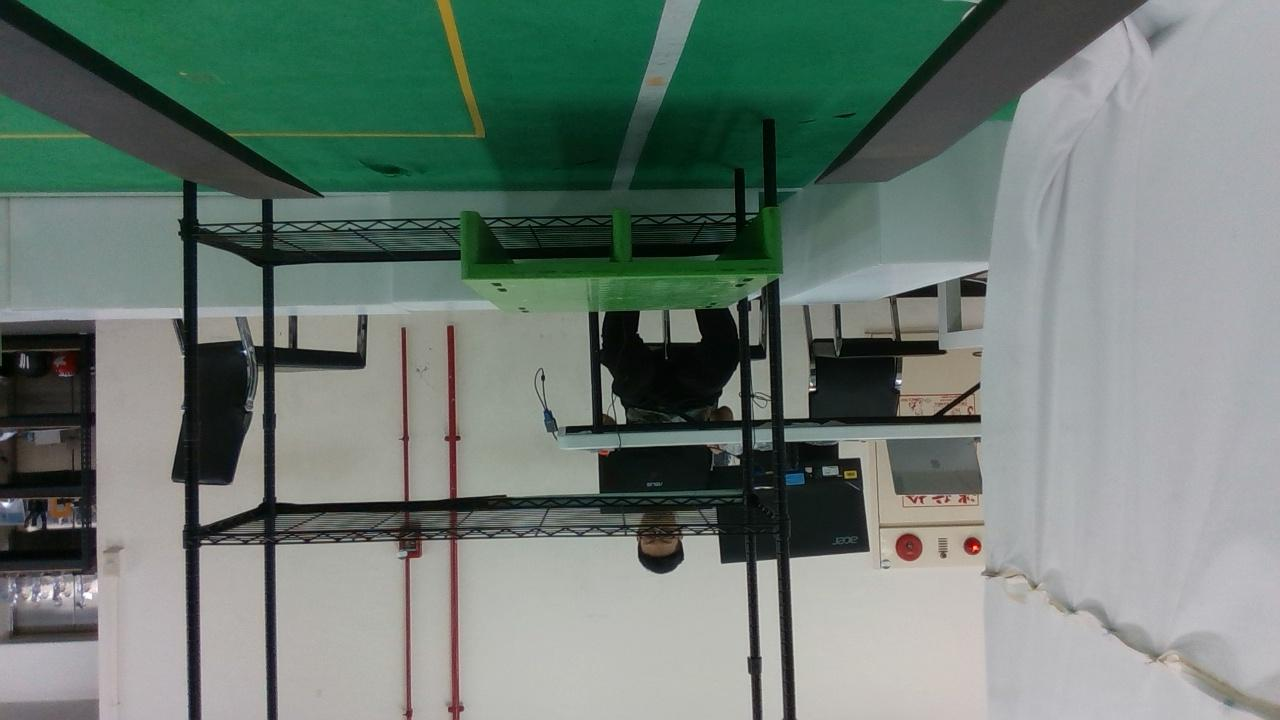Pallet: (459, 204, 787, 286)
